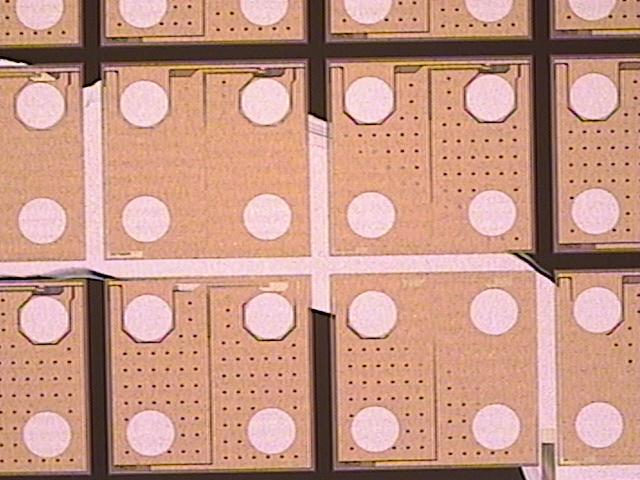COATING BAD: (1, 58, 640, 480)
